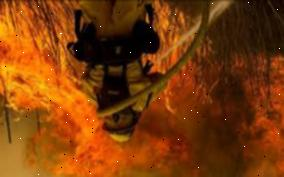fire: (163, 0, 284, 177), (0, 0, 83, 177)
